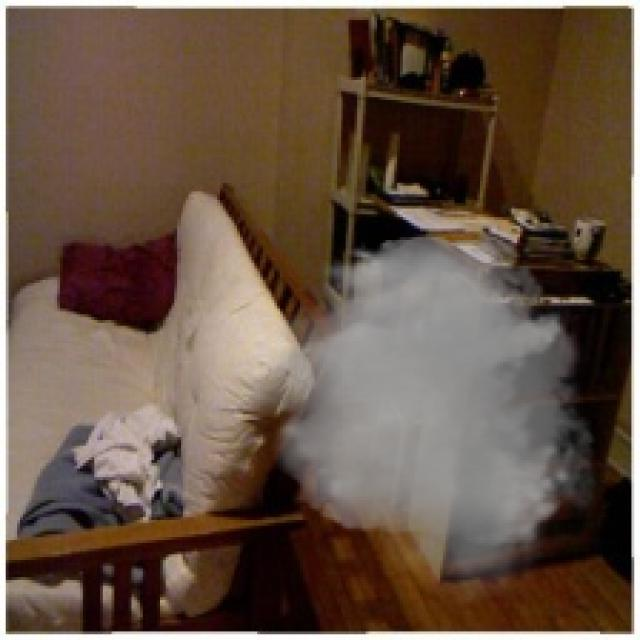smoke: (228, 225, 612, 606)
